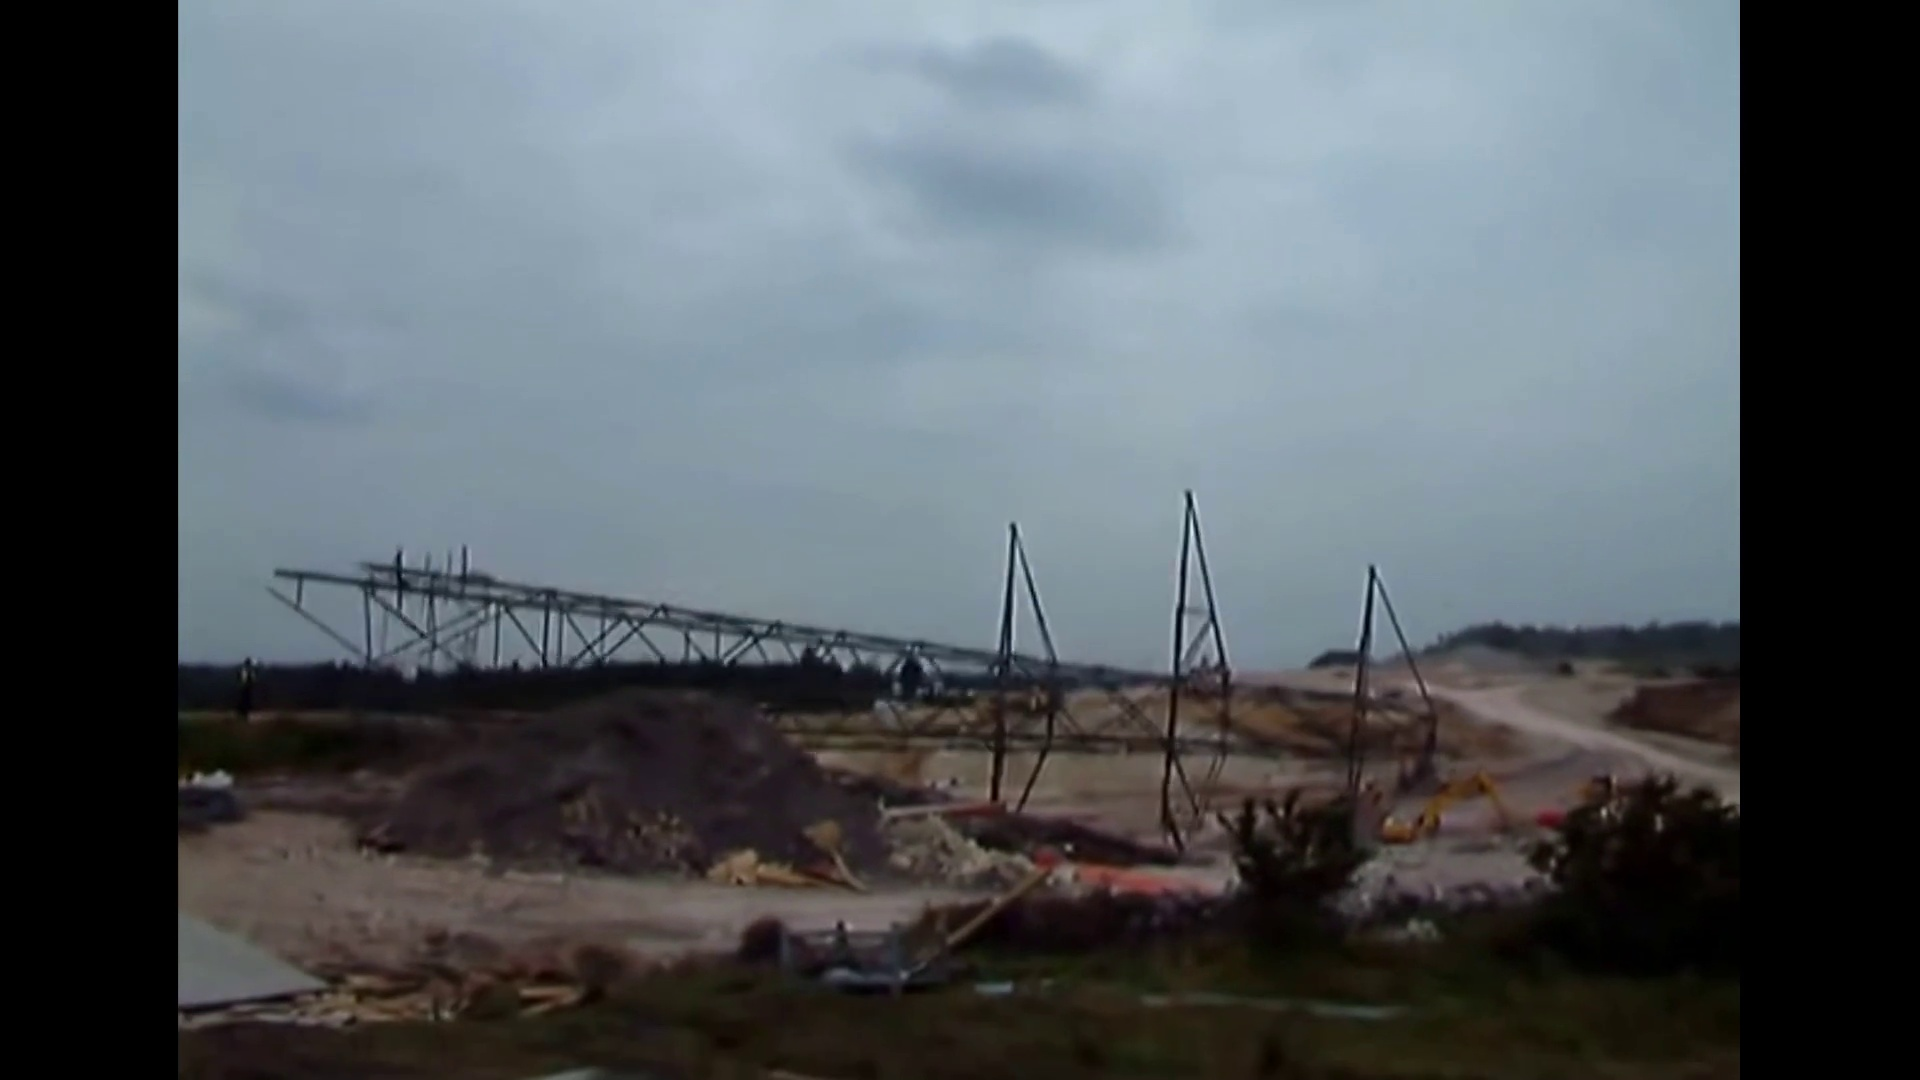tower_down: (266, 505, 1489, 853)
